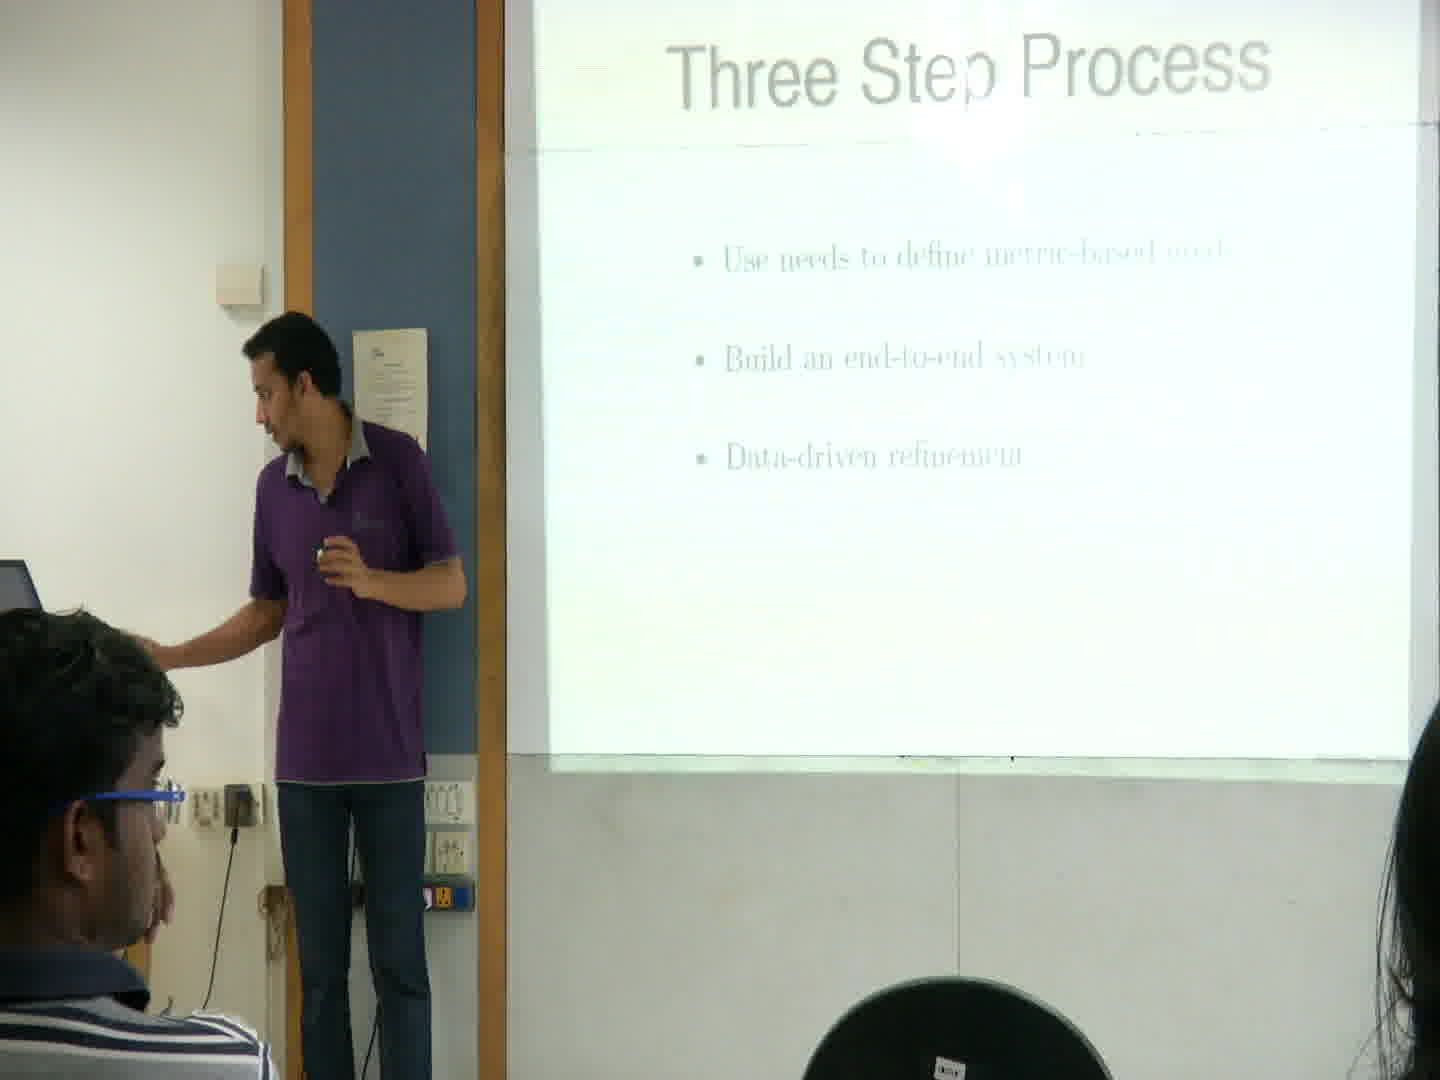slide: (536, 1, 1408, 781)
